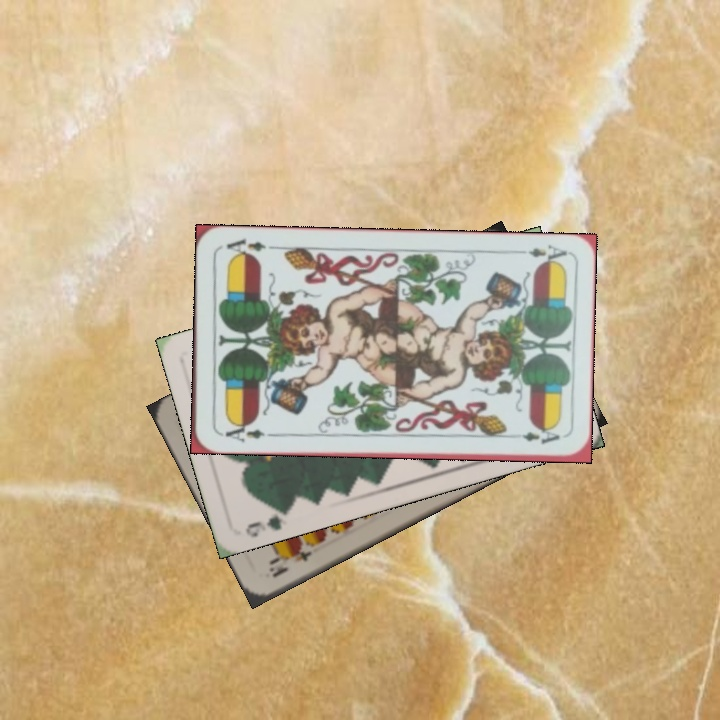E10: (265, 543, 315, 581)
EA: (510, 240, 570, 267), (216, 418, 267, 445)
G9: (241, 502, 293, 540)
